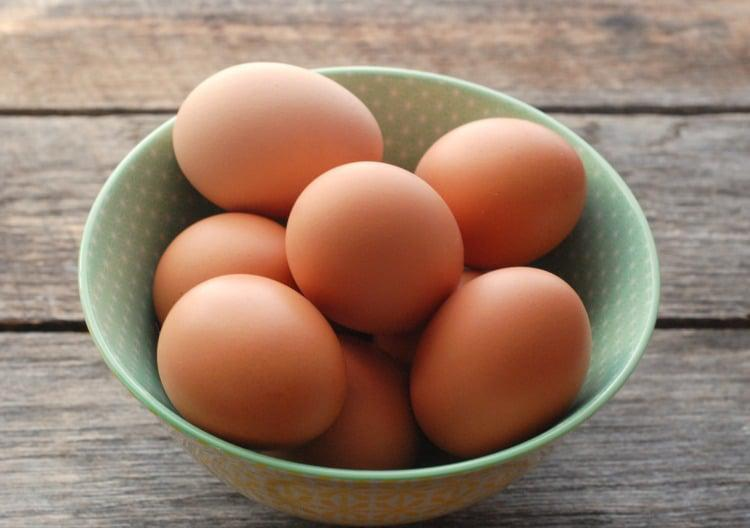egg: (404, 262, 595, 462), (168, 59, 393, 224), (151, 271, 353, 447), (280, 158, 470, 338), (407, 115, 591, 272)
